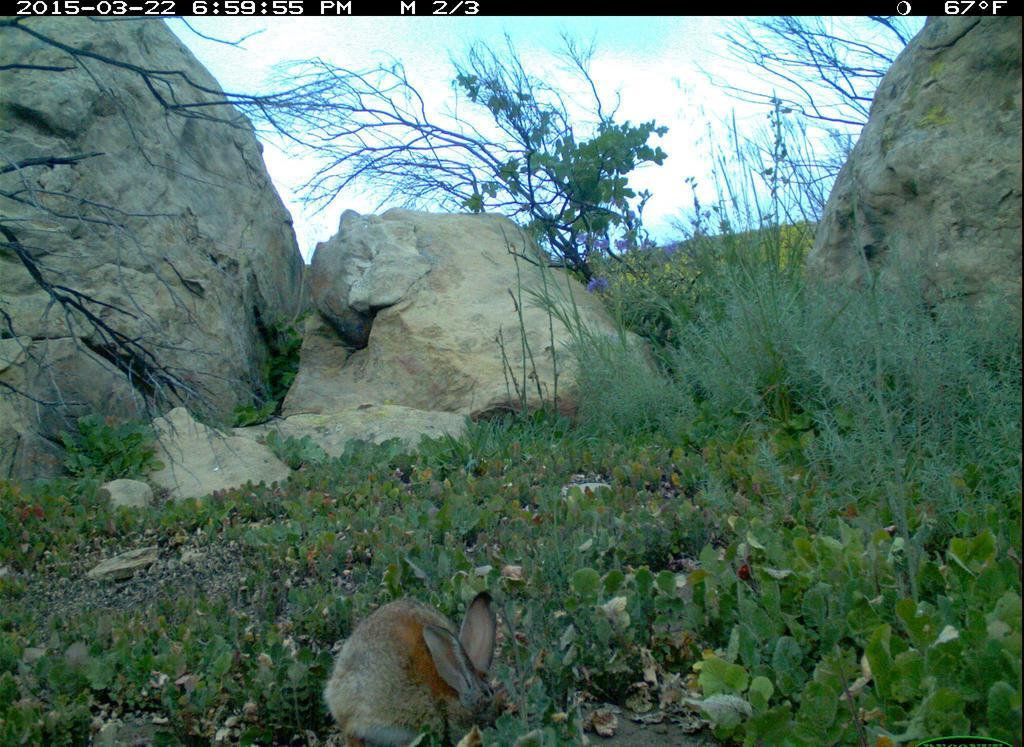rabbit: (314, 565, 528, 744)
